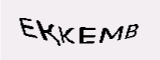Ж: (31, 26, 47, 46)
С: (114, 27, 132, 49)
Т: (95, 29, 115, 51)
У: (74, 29, 93, 55)
Ю: (47, 28, 71, 52)
